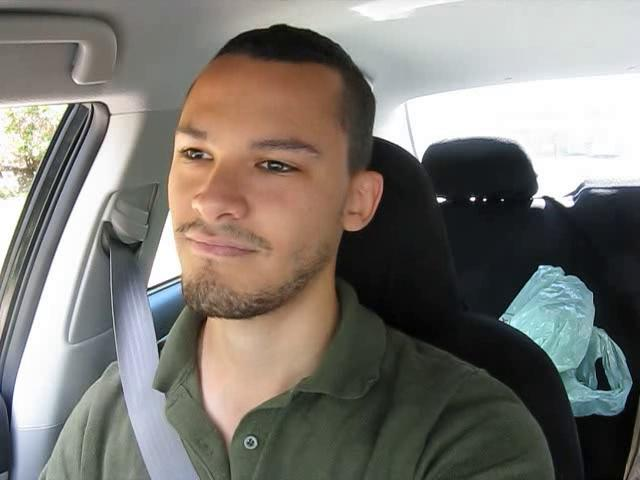close_eyeL: (169, 136, 224, 172)
close_eyeR: (243, 146, 316, 186)
no_yawn: (172, 223, 271, 267)
